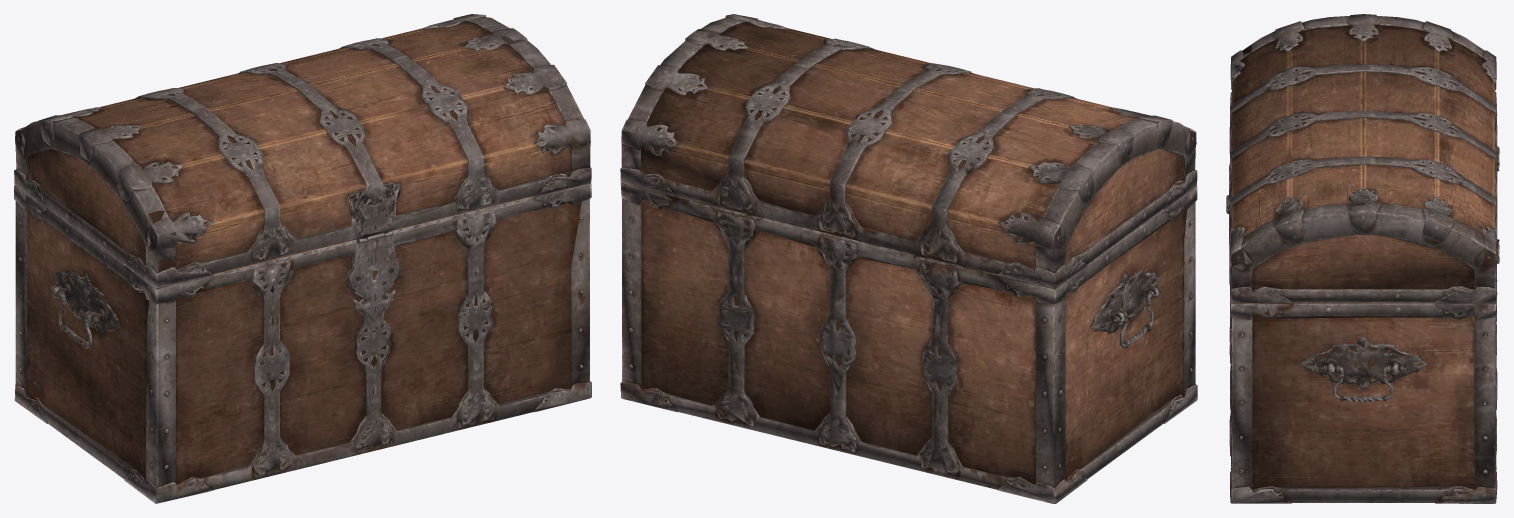
File: treasure_chest.glb
The picture shows the model from 3 angles, left to right: view 1: azimuth 30°, elevation 25°; view 2: azimuth 150°, elevation 25°; view 3: azimuth 270°, elevation 25°; orthographic projection. The views are drawn at different scales.
Visible parts, largest first — view 1: treasure_chest_bottom, treasure_chest_lid, treasure_chest_lock, treasure_chest_handle_left; view 2: treasure_chest_bottom, treasure_chest_lid, treasure_chest_handle_left; view 3: treasure_chest_lid, treasure_chest_bottom, treasure_chest_handle_right.
Part boxes in pixels (x1,y1,x2,y2): treasure_chest_bottom: (14,183,591,503); treasure_chest_lid: (14,14,591,288); treasure_chest_lock: (349,233,399,322); treasure_chest_handle_left: (50,285,99,348); treasure_chest_bottom: (620,183,1197,503); treasure_chest_lid: (620,14,1197,288); treasure_chest_handle_left: (1112,285,1161,348); treasure_chest_lid: (1226,14,1499,302); treasure_chest_bottom: (1229,131,1499,503); treasure_chest_handle_right: (1320,365,1406,402).
Size of the model in its own units: 0.959 by 0.618 by 0.5224.
Materials: 1 (1 with a texture image).
